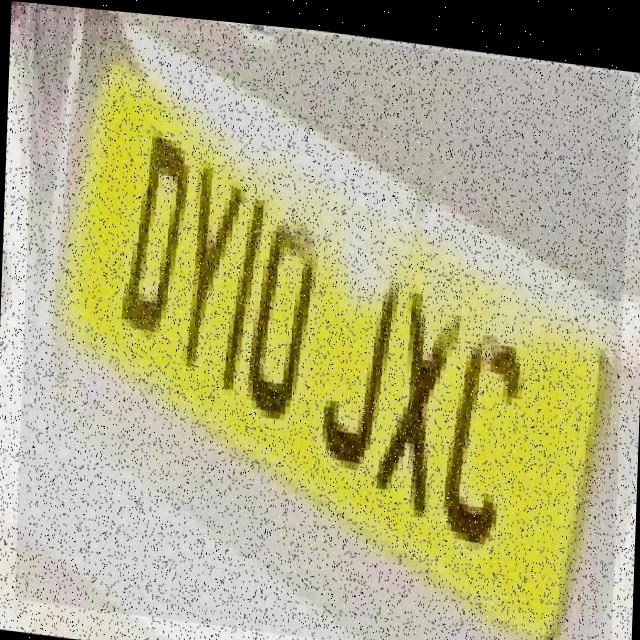LicensePlate: (14, 1, 630, 640)
